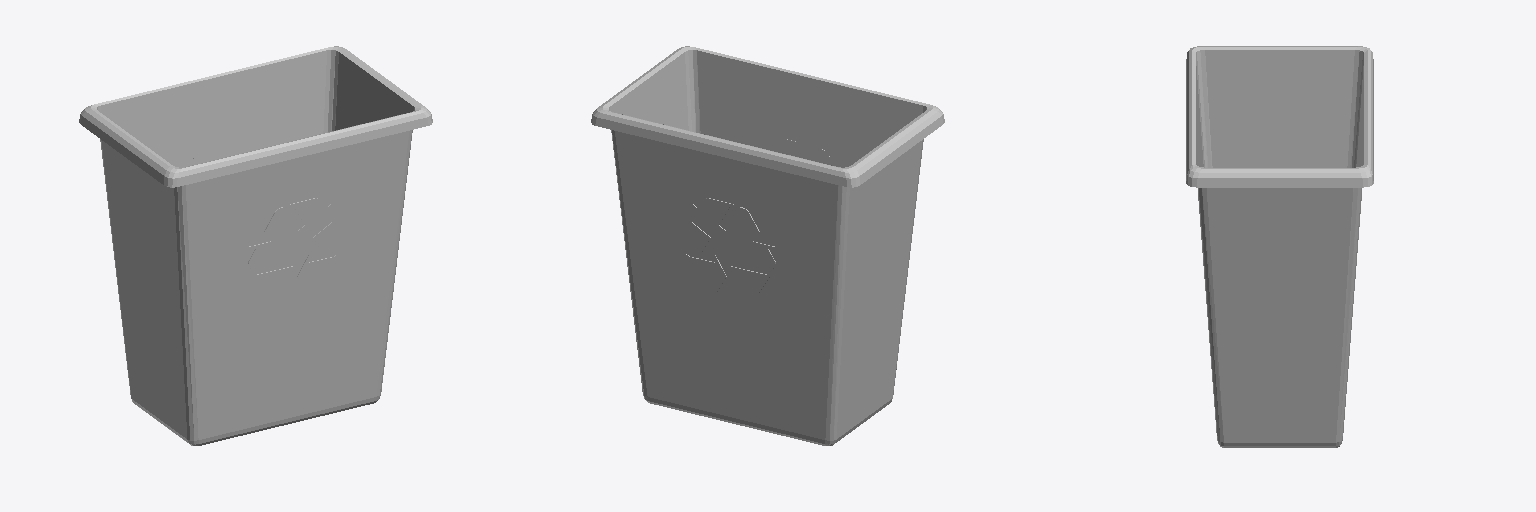
The model's file is Trash Bin.obj.
3 renders of one model, left to right at view 1: azimuth 30°, elevation 25°; view 2: azimuth 150°, elevation 25°; view 3: azimuth 270°, elevation 25°, orthographic.
Visible parts, largest first — view 1: Cube_Cube.001, Plane, Plane.001_Plane.003; view 2: Cube_Cube.001, Plane.001_Plane.003, Plane; view 3: Cube_Cube.001.
Boxes of the visible parts, box(x1,y1,x2,y2) form: Cube_Cube.001: box(79, 46, 432, 445); Plane: box(248, 198, 342, 294); Plane.001_Plane.003: box(190, 141, 251, 165); Cube_Cube.001: box(591, 46, 944, 445); Plane.001_Plane.003: box(681, 198, 775, 294); Plane: box(772, 139, 833, 165); Cube_Cube.001: box(1186, 46, 1373, 447).
Bounding box in the file's own units: 1.84 × 1.95 × 1.12.